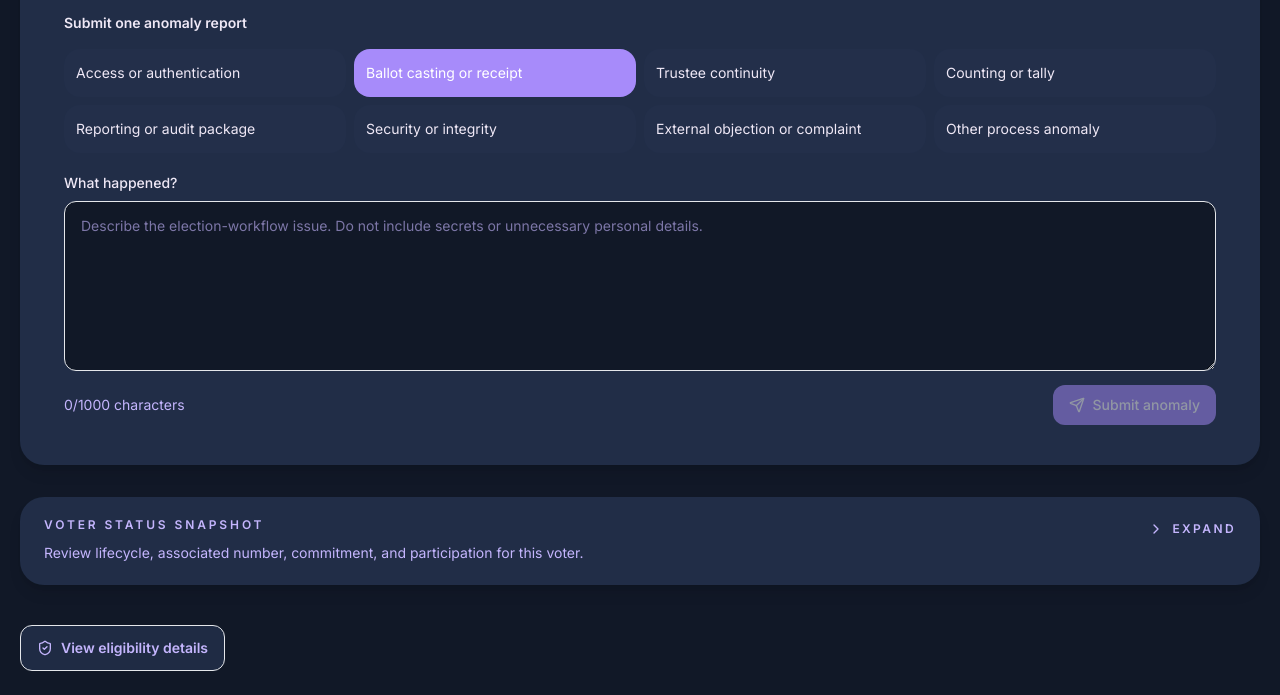
Test: ElectionVotingPanel › collapses the draft voter snapshot by default and shows the associated number instead of a generic linked label
The image size is (1280, 695).
(page scrolled)
Expected: the text "Review lifecycle, associated number, commitment, and participation for this voter." is shown, [44,544,584,561]
Step 1. Click the button with test id "voting-summary-toggle" → {"x": 154, "y": 524}, box [44,517,1236,565]
(page scrolled)
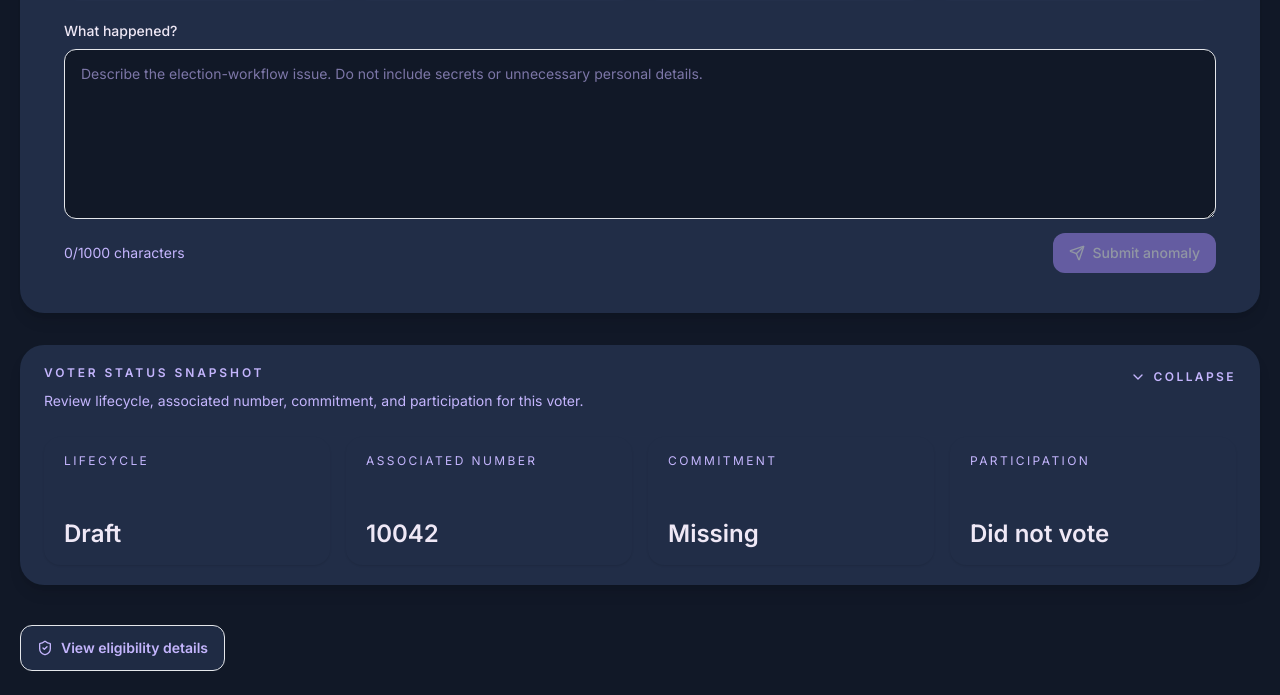
Expected: the button with test id "voting-summary-toggle" is expanded, [44,365,1236,413]
Expected: the text "Associated number" is shown, [366,453,538,468]
Expected: the text "10042" is shown, [366,519,439,548]
